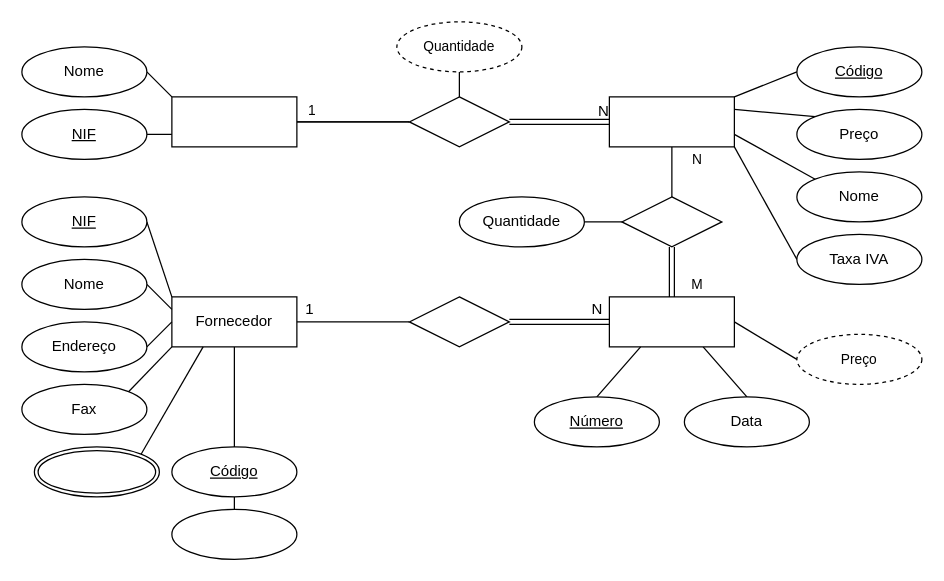
Some shapes in this 944 by 581 pixel diagram are drawn without their labels. Each missing label, with the box of its shape:
Contem: (621, 196, 722, 247)
Designação: (171, 508, 297, 559)
Empresa: (171, 96, 297, 147)
Encomenda: (608, 296, 734, 347)
Pagamento: (33, 446, 159, 497)
Possui: (408, 96, 509, 147)
Produto: (608, 96, 734, 147)
Realiza: (408, 296, 509, 347)
